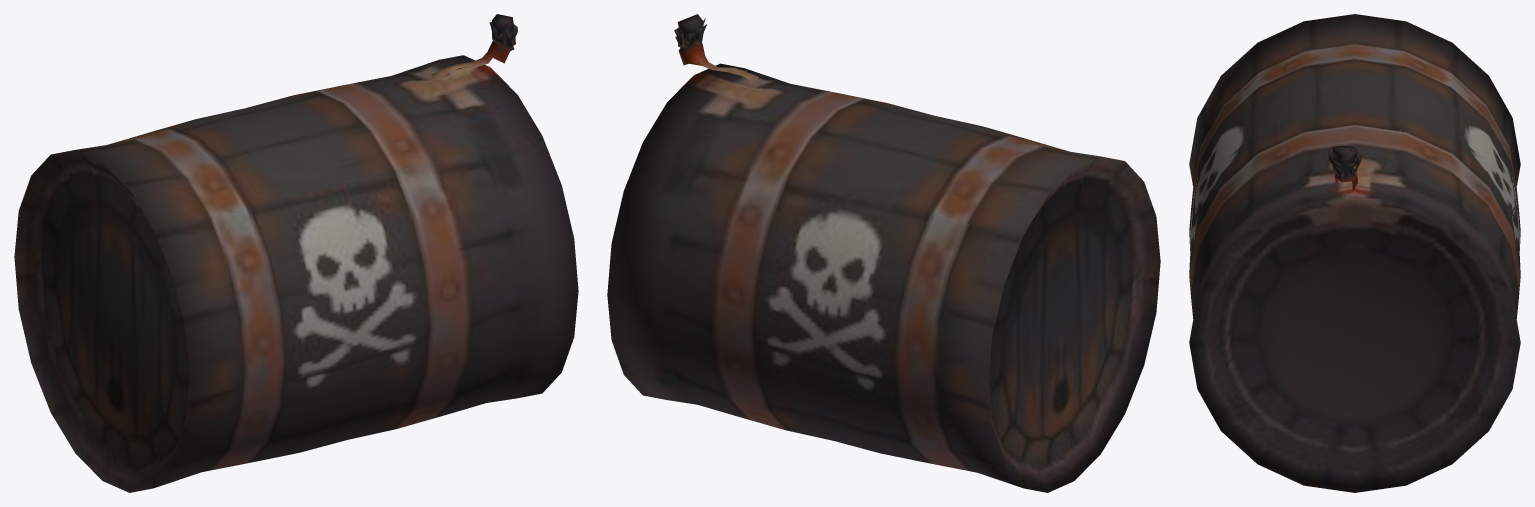
File: powderkeg.glb
3 views of the same model, side by side, from view 1: azimuth 30°, elevation 25°; view 2: azimuth 150°, elevation 25°; view 3: azimuth 270°, elevation 25° (orthographic). The views are drawn at different scales.
Visible parts, largest first — view 1: powderkeg; view 2: powderkeg; view 3: powderkeg.
Boxes of the visible parts, box(x1,y1,x2,y2) form: powderkeg: box(14, 14, 578, 492); powderkeg: box(607, 14, 1160, 492); powderkeg: box(1189, 14, 1520, 492).
Size of the model in its own units: 0.7166 by 0.62 by 0.5334.
1 material, 1 textured.
